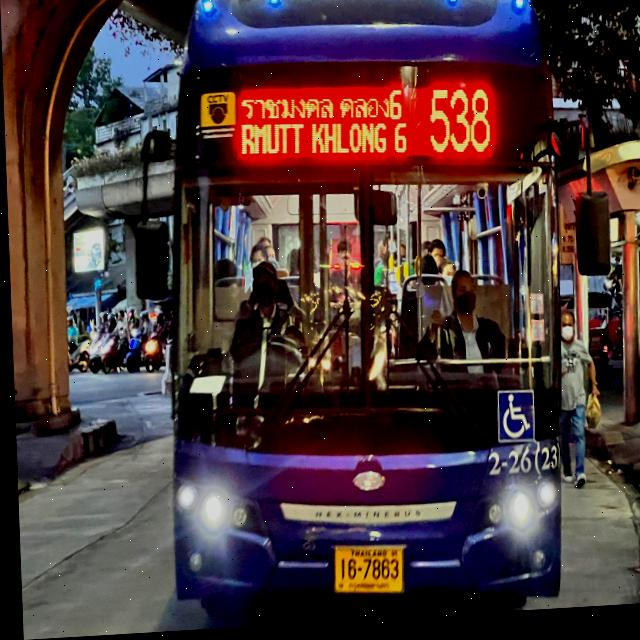Bus-Line-Number: (421, 80, 497, 173)
Destination-Sign-Normal: (226, 68, 419, 179)
TSB-Bus: (140, 0, 576, 633)
